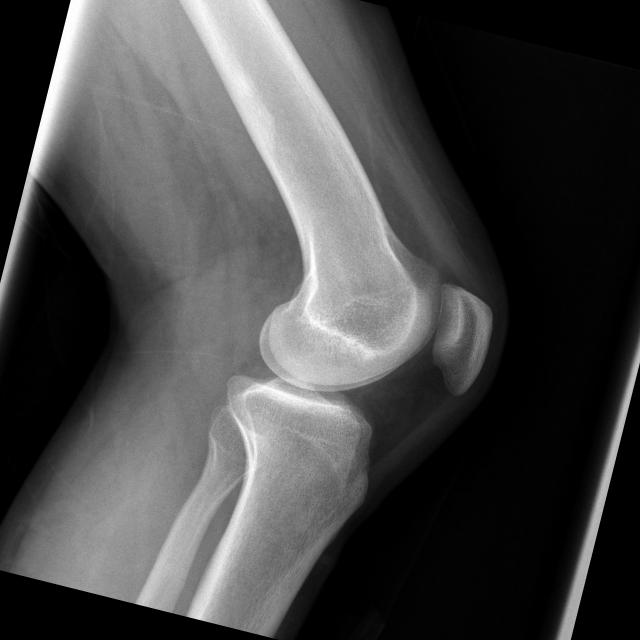Knee: (212, 226, 505, 506)
